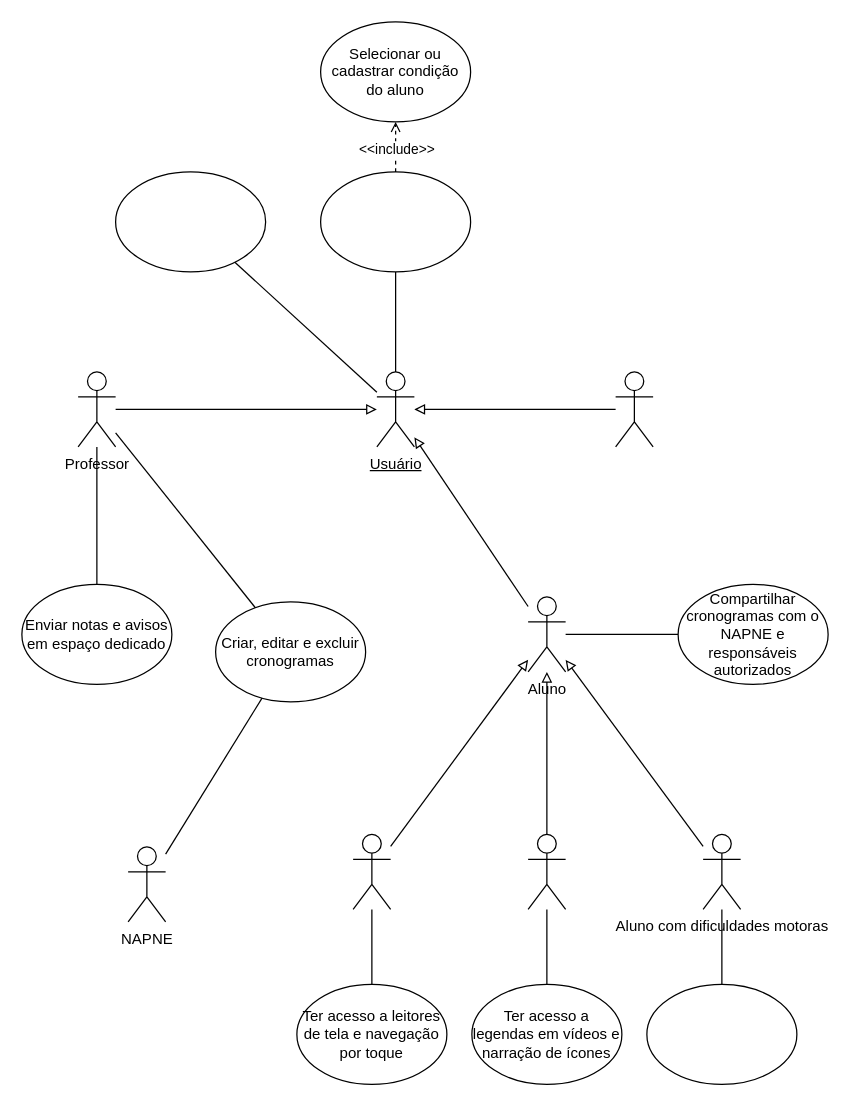
Image size: 850x1106. Some labels were removed from this diagram. The centre of each missing label's shape, as x and y in pixels:
"Aluno cego ou com baixa visão" goes at (x=371, y=871).
"Aluno surdo" goes at (x=546, y=871).
"Realizar login" goes at (x=190, y=221).
"Responsável" goes at (x=633, y=409).
"Ter acesso a controle por voz" goes at (x=721, y=1033).
"Ter acesso a interface e recursos adaptados para aluno" goes at (x=395, y=221).
